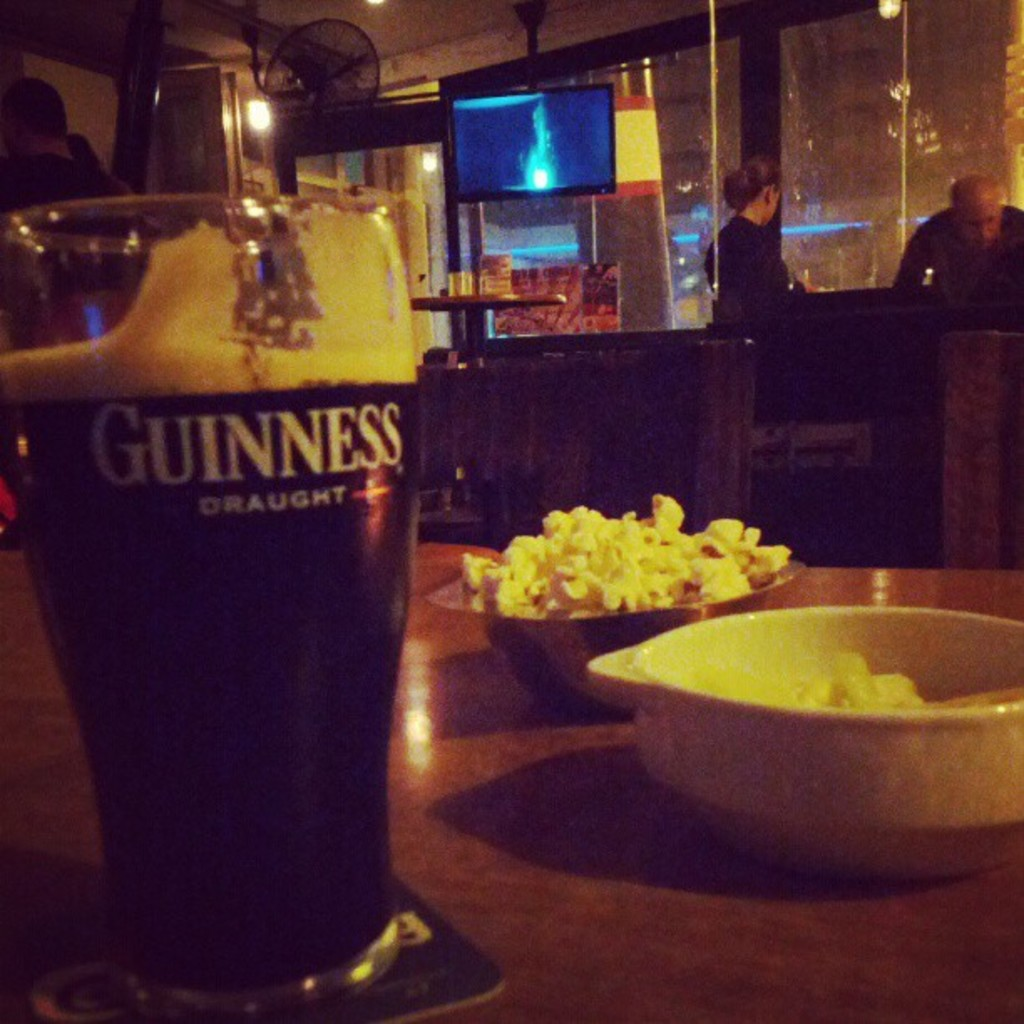Beer: (0, 232, 421, 1003)
